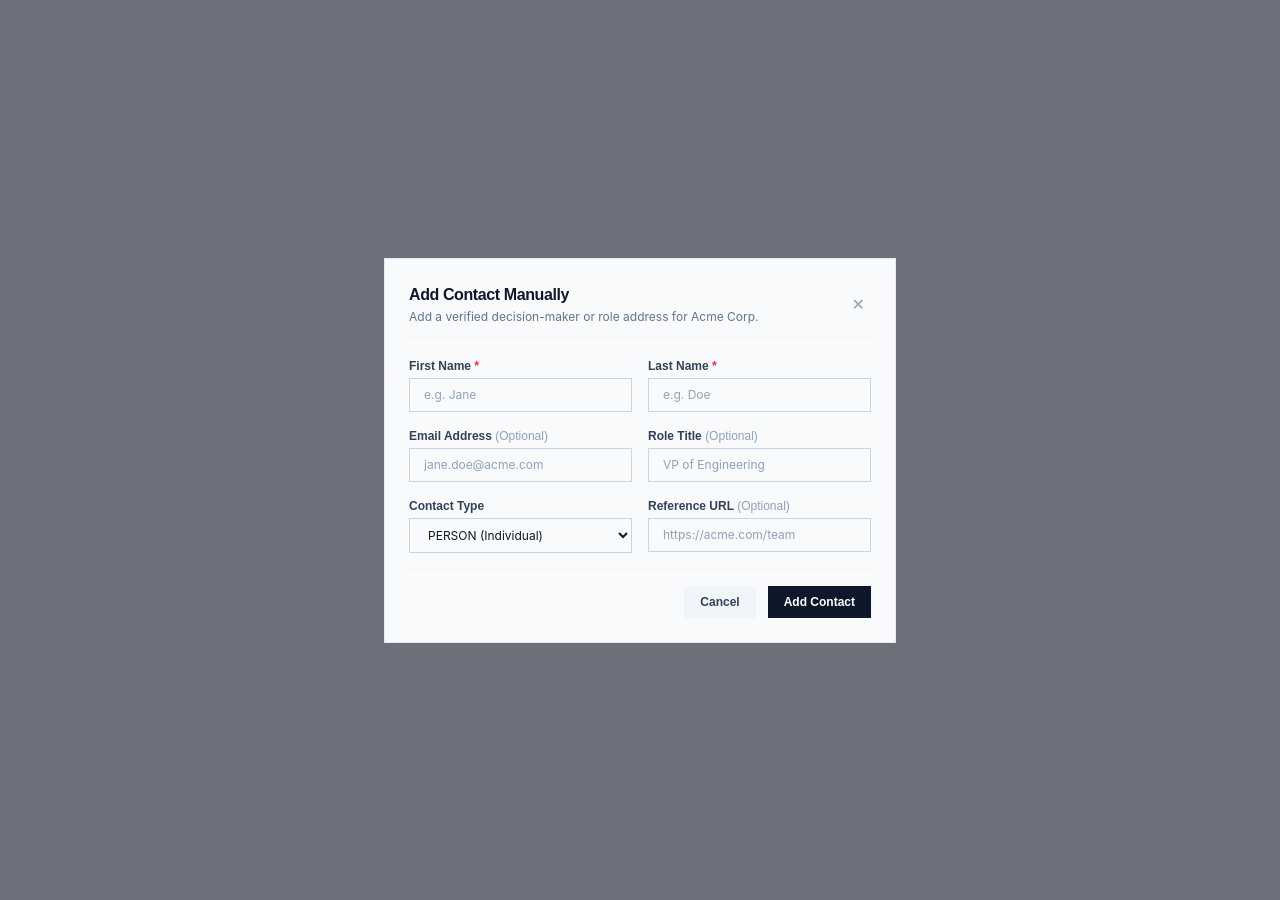
it: AddContactModal Component - Milestone 07 Manual Contact Creation › validates invalid reference URL format
Type "Jane" into the field labelled "First Name *" at (520, 394), box left=409, top=378, right=632, bottom=412
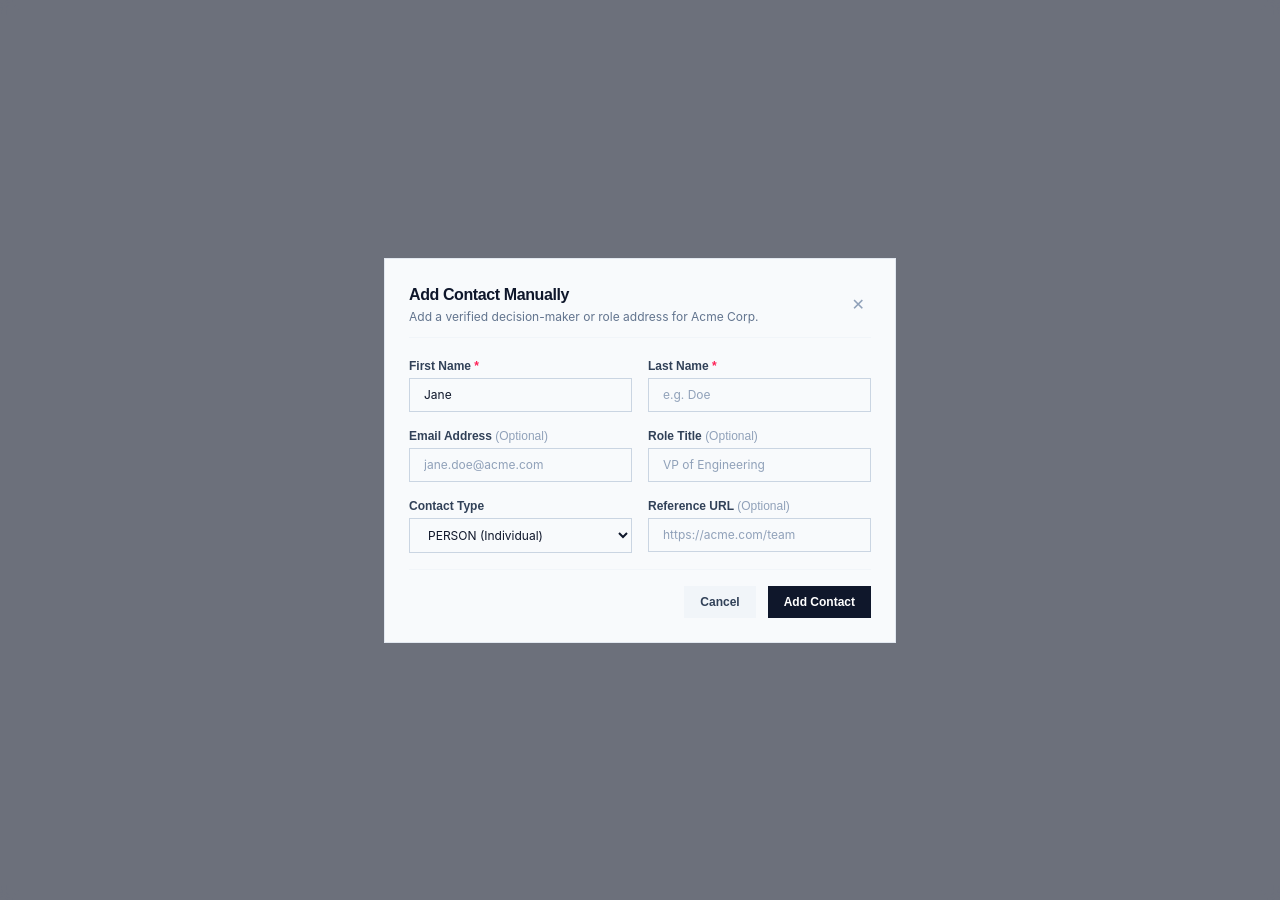
Type "Doe" into the field labelled "Last Name *" at (760, 394), box left=648, top=378, right=871, bottom=412
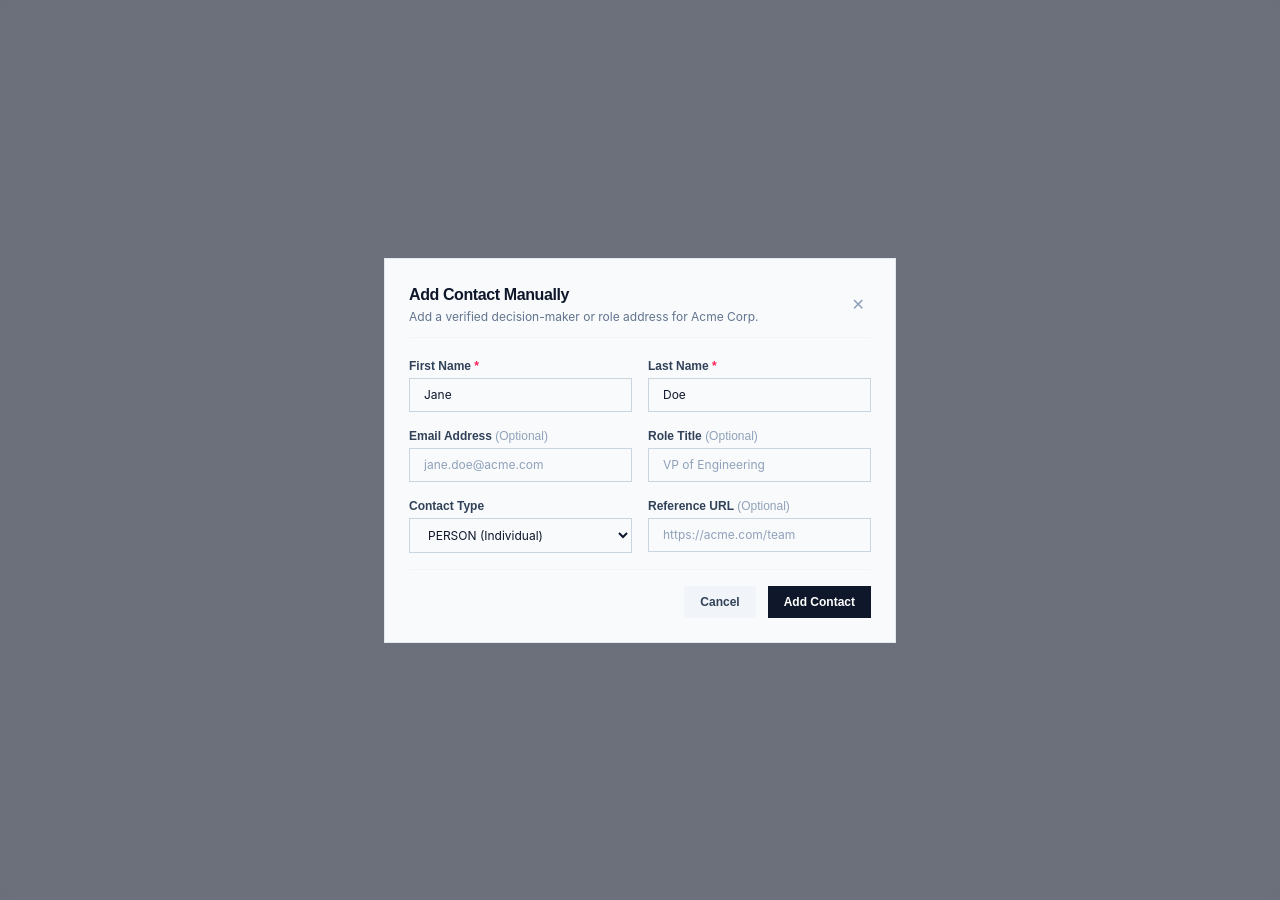
Type "not-a-url" into the field labelled "Reference URL (Optional)" at (760, 534), box left=648, top=518, right=871, bottom=552
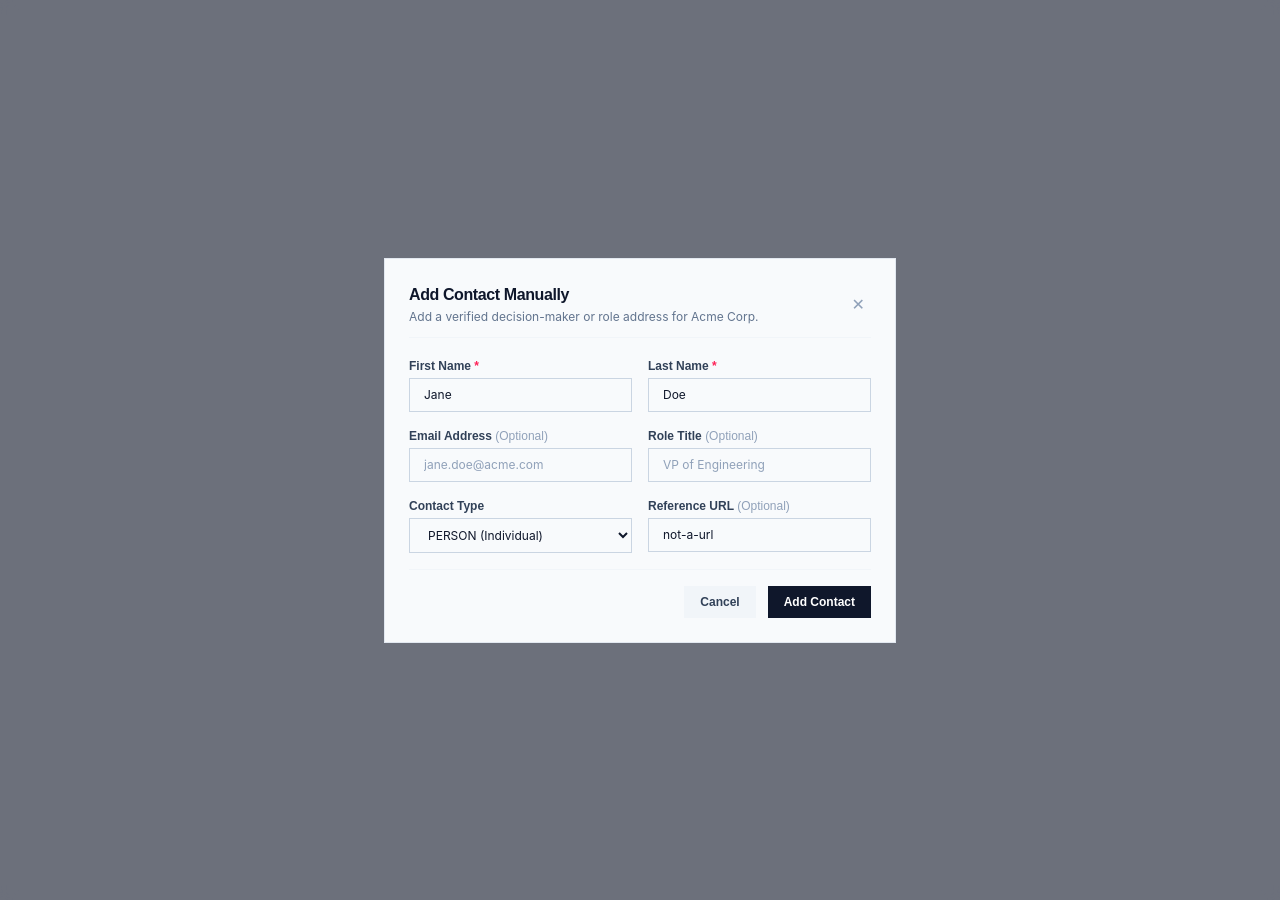
Click the button "Add Contact" at (819, 602), box left=768, top=586, right=871, bottom=618
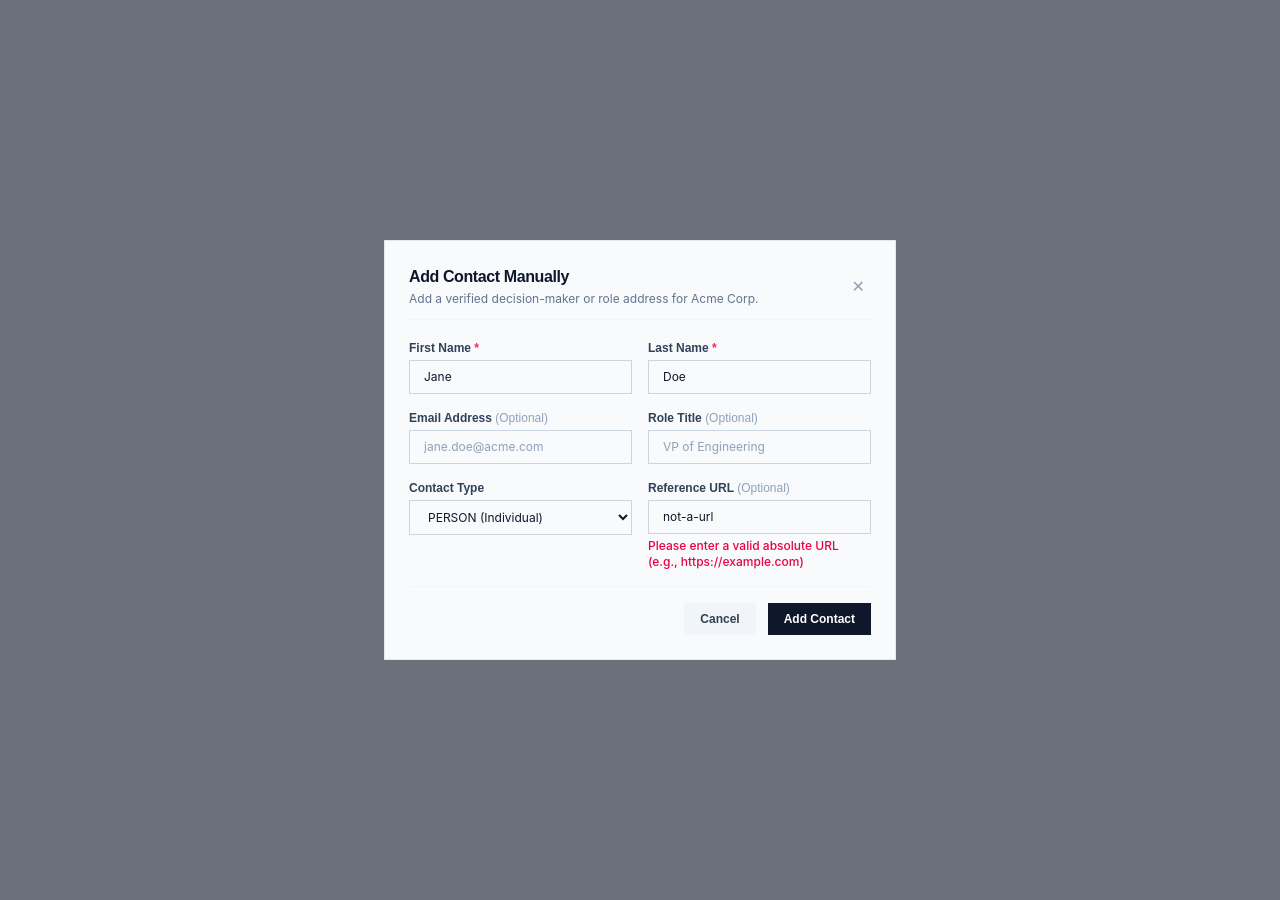
Now the text "Please enter a valid absolute URL" is shown, box left=648, top=538, right=839, bottom=569
